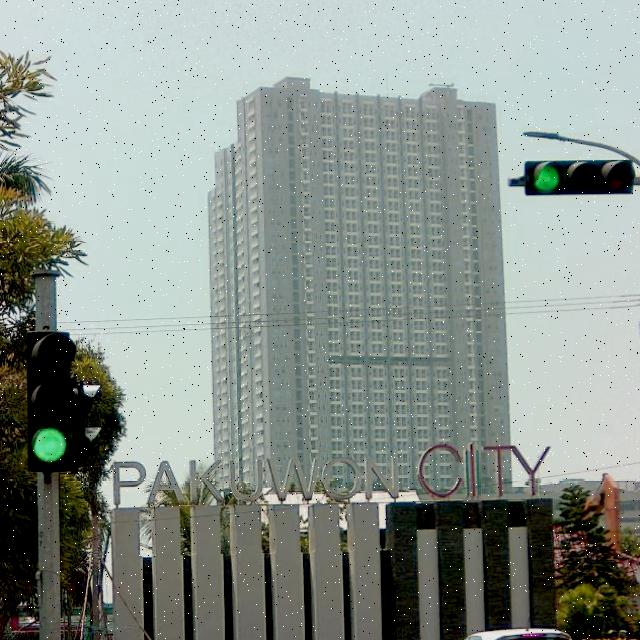Lampu Hijau: (25, 329, 75, 474), (524, 158, 637, 196)
